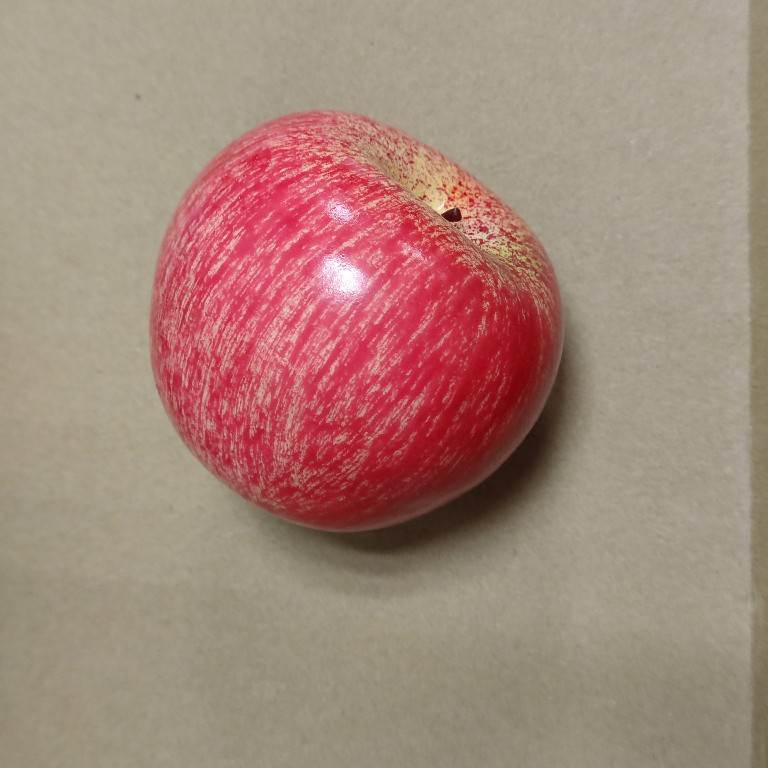fruit_apple: (142, 104, 574, 545)
